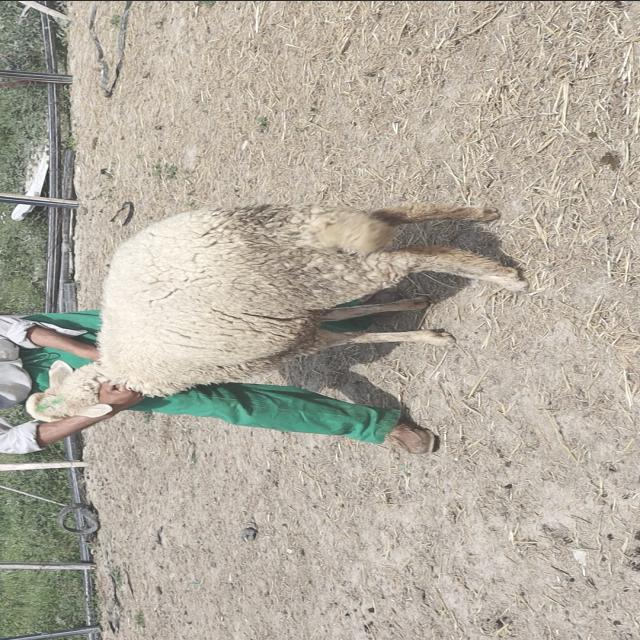Score_4: (26, 202, 527, 421)
